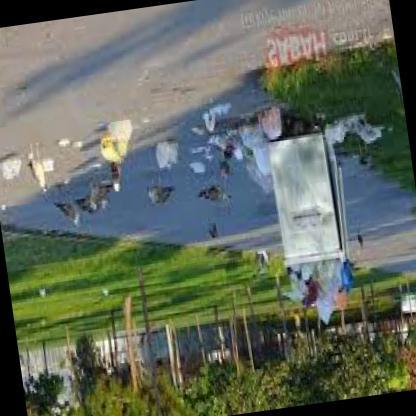Garbage: (278, 255, 364, 339), (236, 88, 288, 148), (338, 107, 398, 154), (193, 80, 241, 136), (101, 104, 142, 152), (308, 292, 348, 331), (185, 132, 216, 182), (152, 122, 186, 167), (308, 262, 342, 304), (284, 269, 314, 314), (0, 145, 21, 185), (56, 126, 83, 156)
